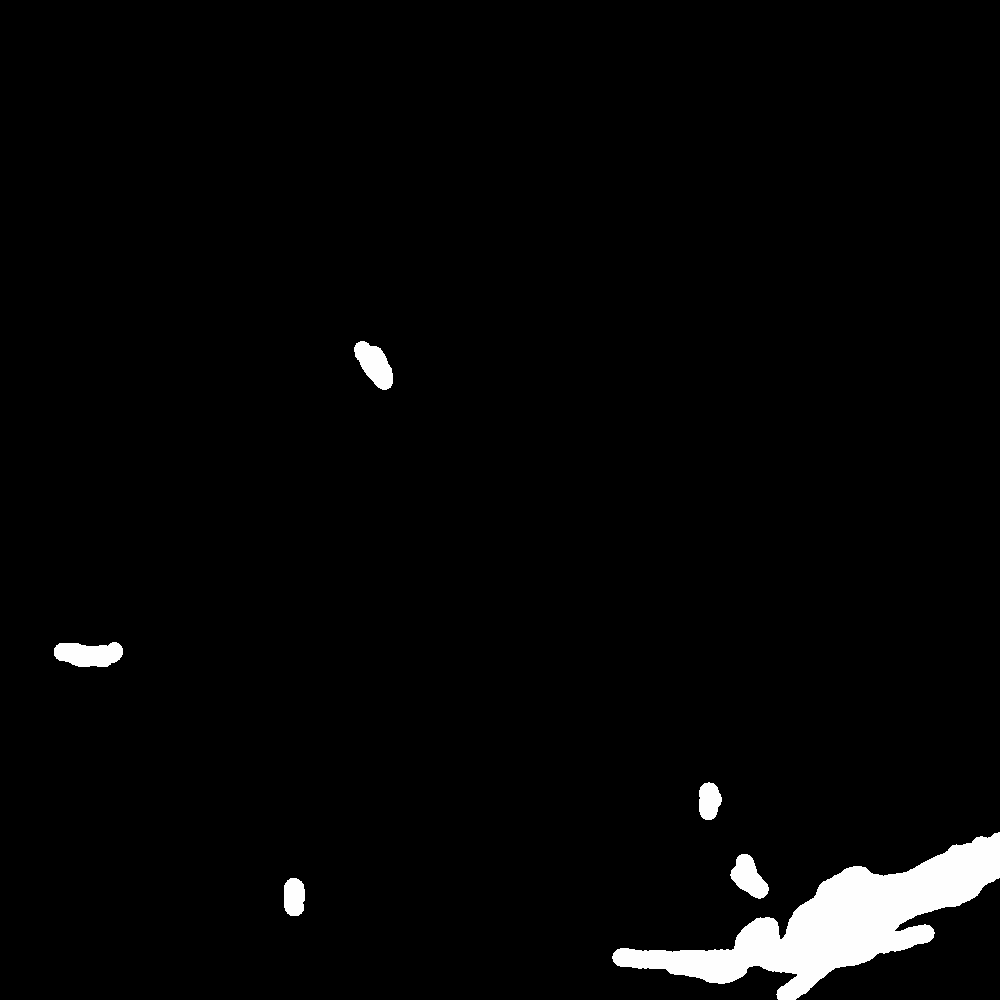illegal: (636, 839, 1000, 1000), (484, 247, 740, 414), (883, 545, 1000, 655), (272, 872, 329, 1000)
